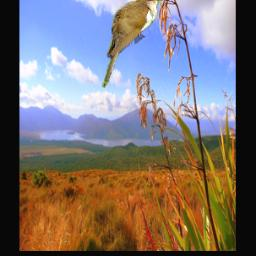Cuckoo: (103, 0, 165, 88)
